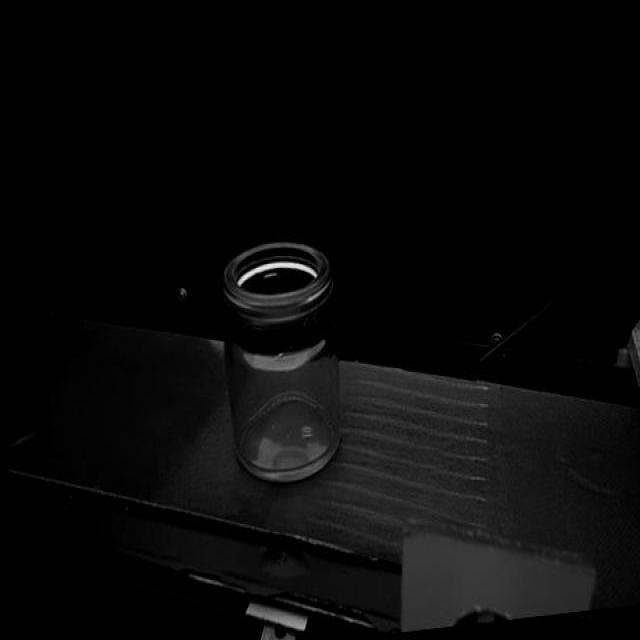defect: (275, 343, 293, 358)
glass: (217, 232, 346, 488)
